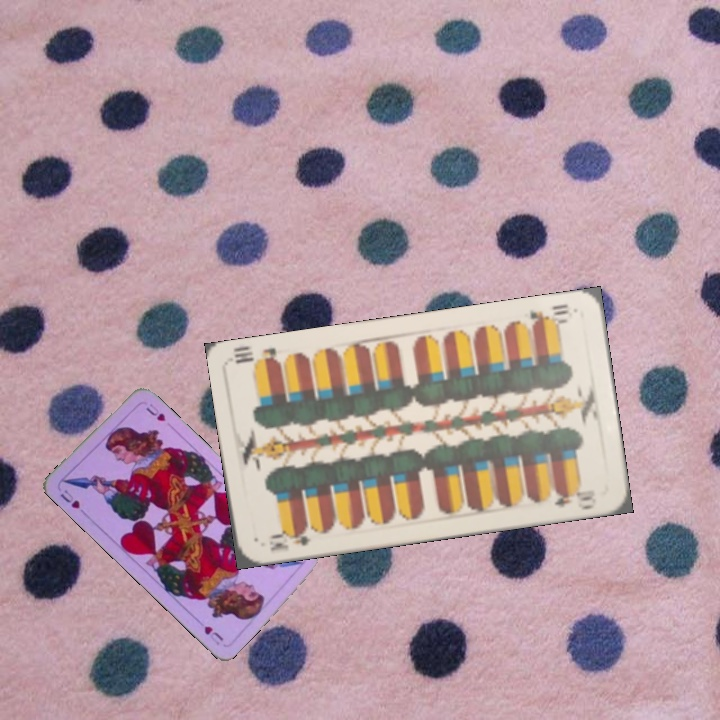E10: (266, 523, 317, 554), (525, 300, 571, 330)
HU: (56, 485, 83, 511)
